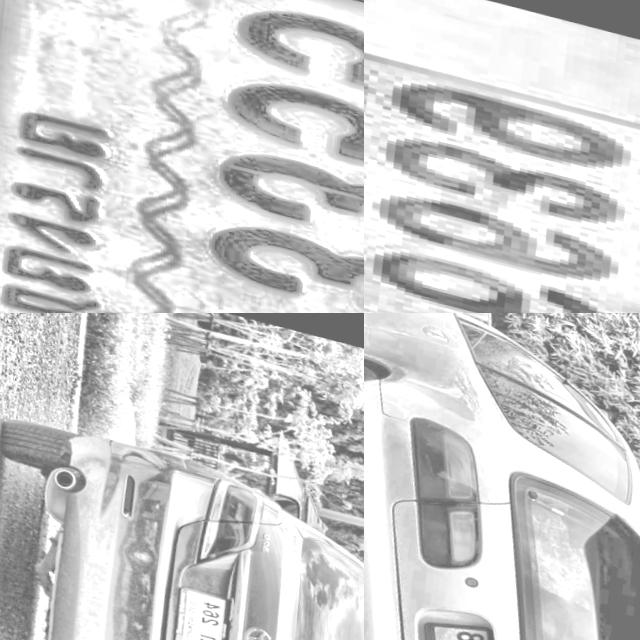license-plate: (0, 0, 364, 313), (364, 0, 640, 313), (145, 572, 233, 640), (393, 602, 515, 640)
